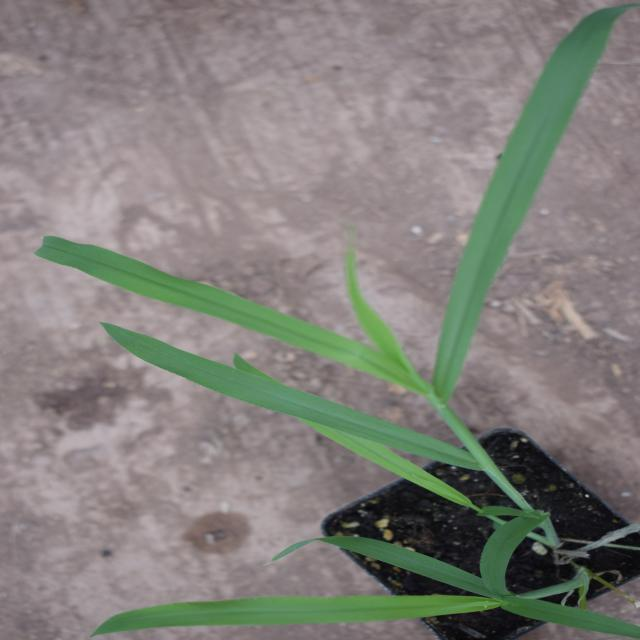crabgrass: (185, 54, 606, 604), (0, 127, 122, 604)
